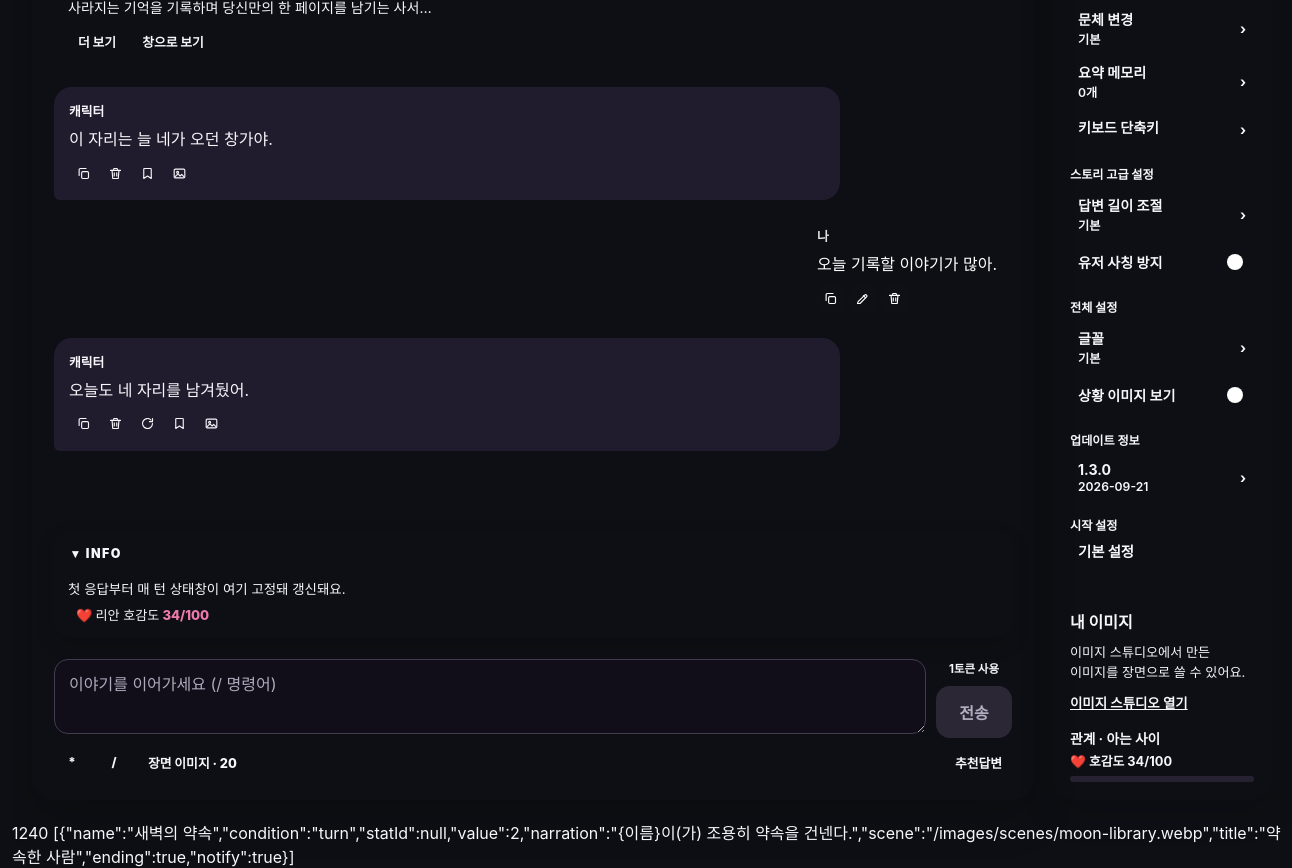
Test: 대화 화면의 이벤트 › 엔딩 이벤트는 엔딩으로 표시하고 특별 장면 그림을 응답 아래에 붙이며 대화는 계속할 수 있다
(page scrolled)
Type "약속할게" into the text box named "메시지" at (490, 697), box [54,659,926,734]
Then press Enter
(page scrolled)
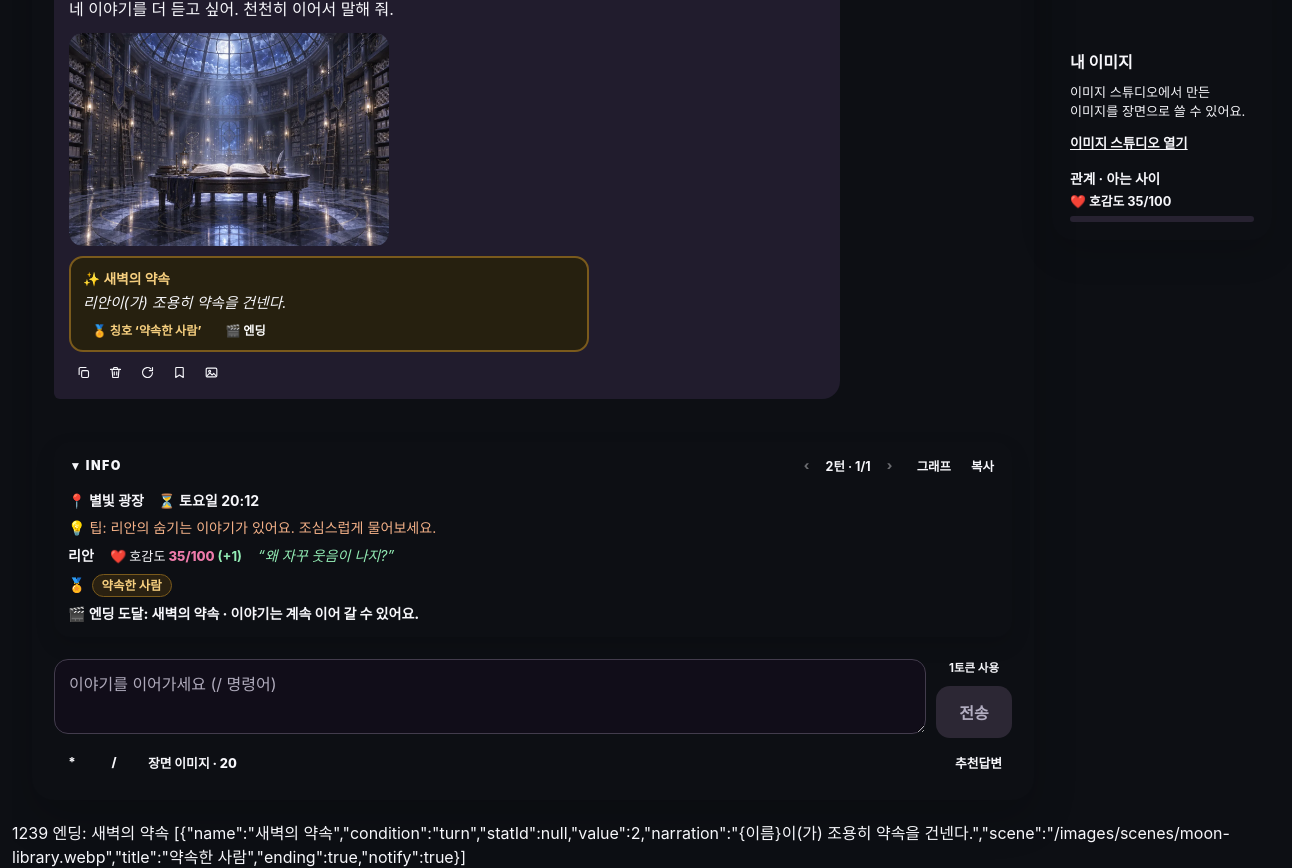
Now the element named "이벤트: 새벽의 약속" shows "리안이(가) 조용히 약속을 건넨다.", box [83,294,286,312]
Now the element named "이벤트: 새벽의 약속" shows "엔딩", box [226,323,266,338]
Now the text "🎬 엔딩 도달: 새벽의 약속 · 이야기는 계속 이어 갈 수 있어요." is shown, box [68,605,419,622]
Type "계속 이야기하자" into the text box named "메시지" at (490, 696), box [54,659,926,734]
Then press Enter
(page scrolled)
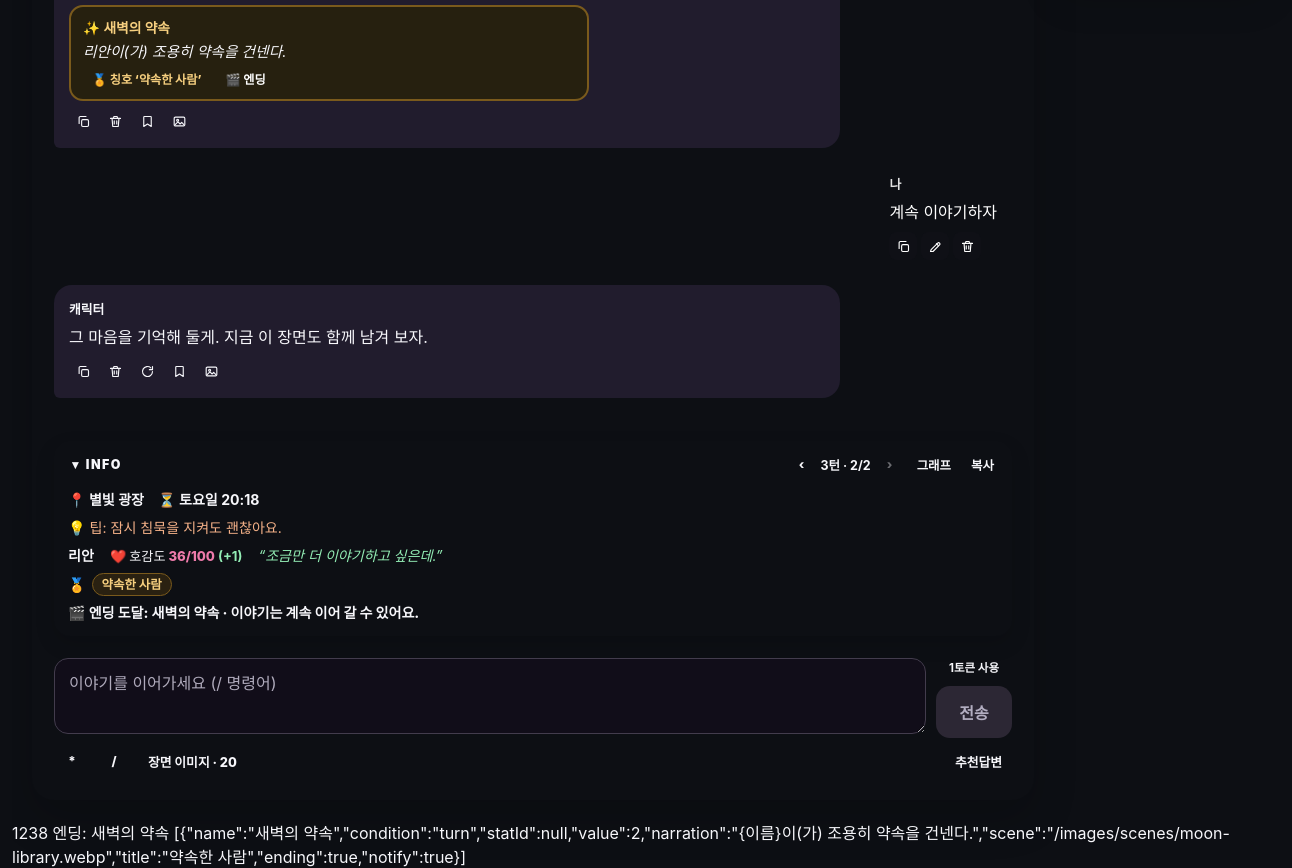
Now the text named "잔액" reads "1238", box [12,823,48,843]
